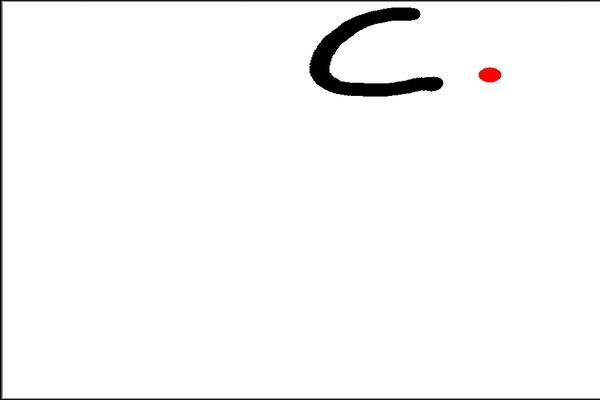C: (303, 2, 448, 103)
